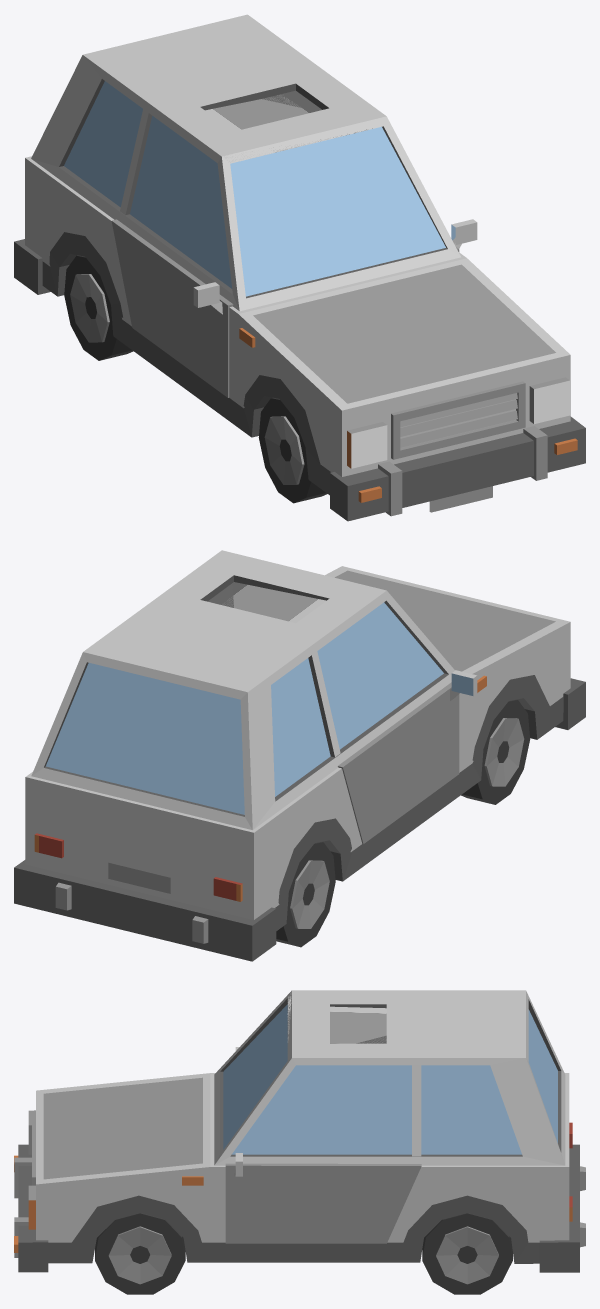
File: transport_old_001.glb
3 views of the same model, one above another, from view 1: azimuth 30°, elevation 25°; view 2: azimuth 150°, elevation 25°; view 3: azimuth 270°, elevation 25° (orthographic). The views are drawn at different scales.
Parts seen in each view (by area): view 1: transport_old_001; view 2: transport_old_001; view 3: transport_old_001.
Boxes of the visible parts, <box> form: transport_old_001: <box>14,14,585,521</box>; transport_old_001: <box>14,550,585,961</box>; transport_old_001: <box>14,990,585,1294</box>.
Size of the model in its own units: 1.48 by 1.36 by 3.11.
Materials: 1 (1 with a texture image).
